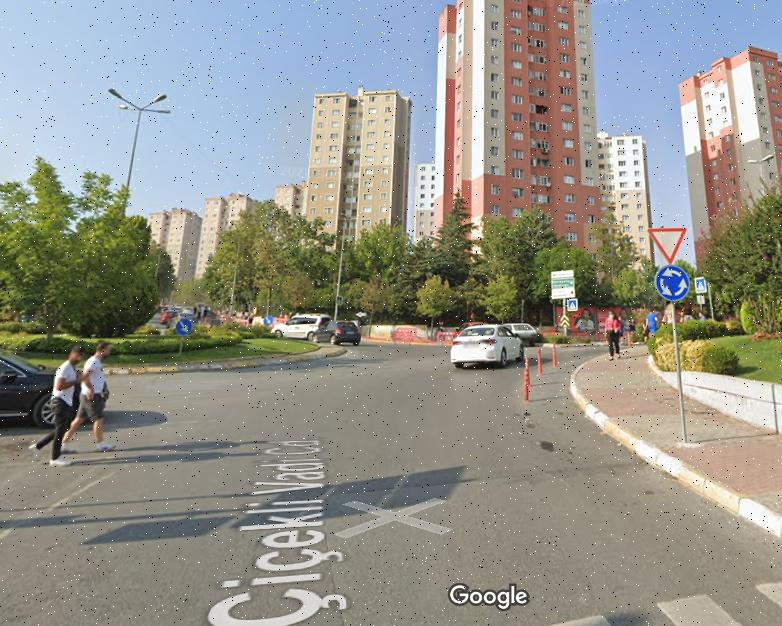crossroads: (657, 266, 689, 299)
